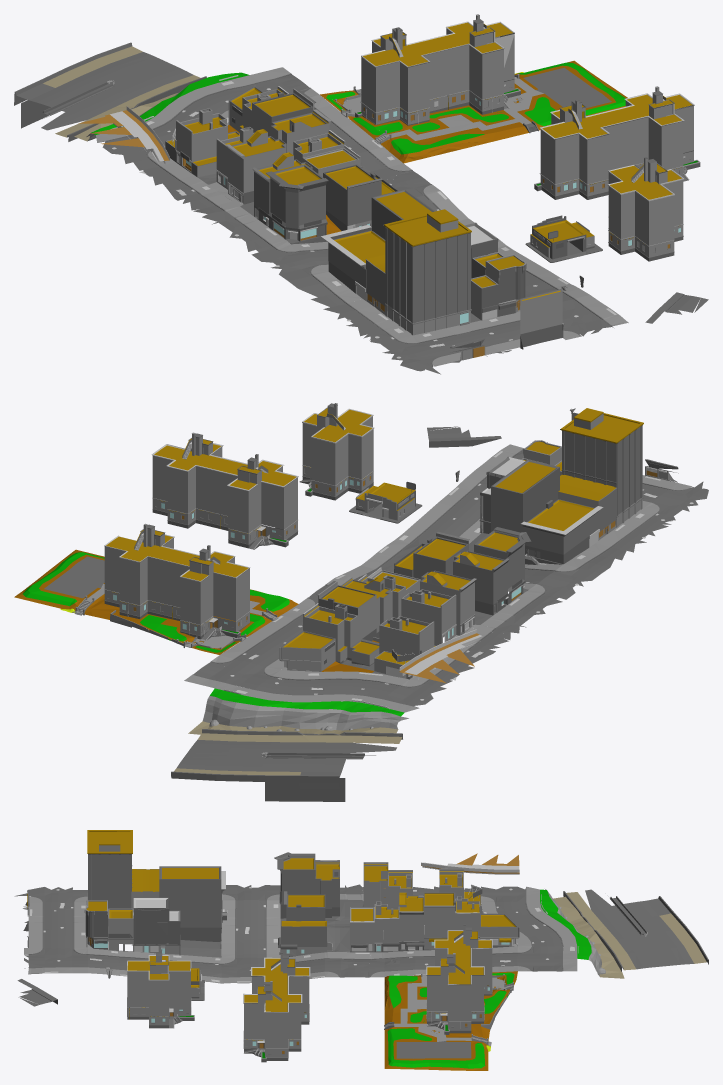
The model's file is brook_n2_1.FBX.
3 renders of one model, top to bottom at view 1: azimuth 30°, elevation 25°; view 2: azimuth 150°, elevation 25°; view 3: azimuth 270°, elevation 25°, orthographic. The views are drawn at different scales.
Parts seen in each view (by area): view 1: unnamed, null; view 2: unnamed, null; view 3: unnamed, null.
Boxes of the visible parts, x1,y1,x2,y2 form: unnamed: (193,14,708,374); null: (14,42,416,212); unnamed: (14,403,708,652); null: (171,571,508,801); unnamed: (14,830,516,1070); null: (356,853,708,981).
Size of the model in its own units: 179 by 51.53 by 281.
